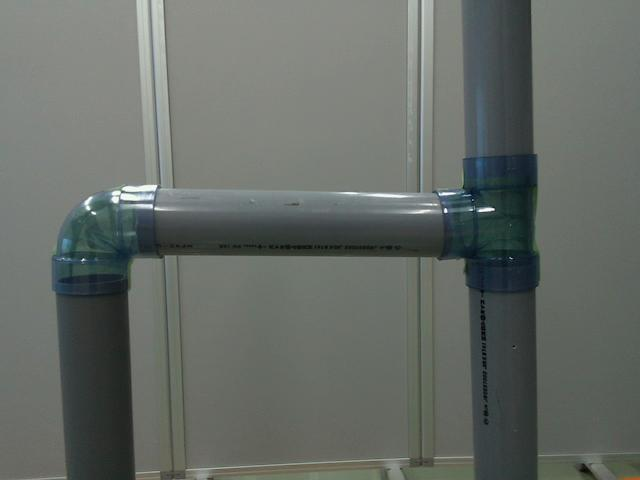bent: (54, 185, 165, 299)
junction: (434, 151, 544, 284)
